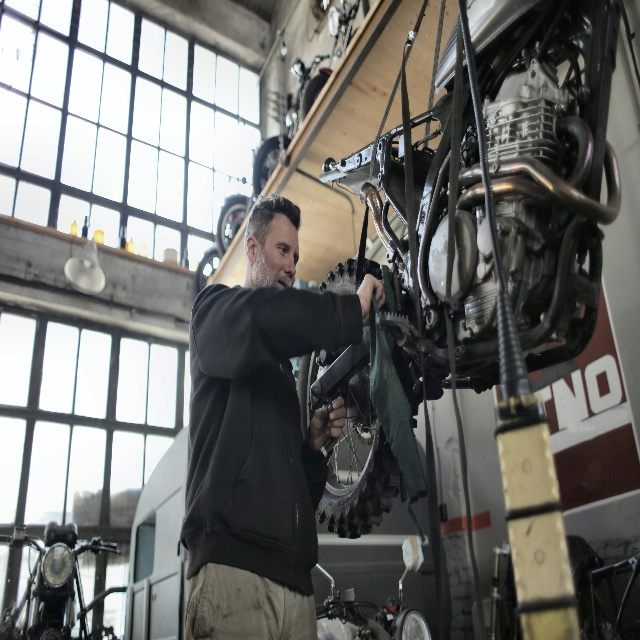Sin_guantes: (309, 396, 347, 456), (357, 272, 386, 327)
